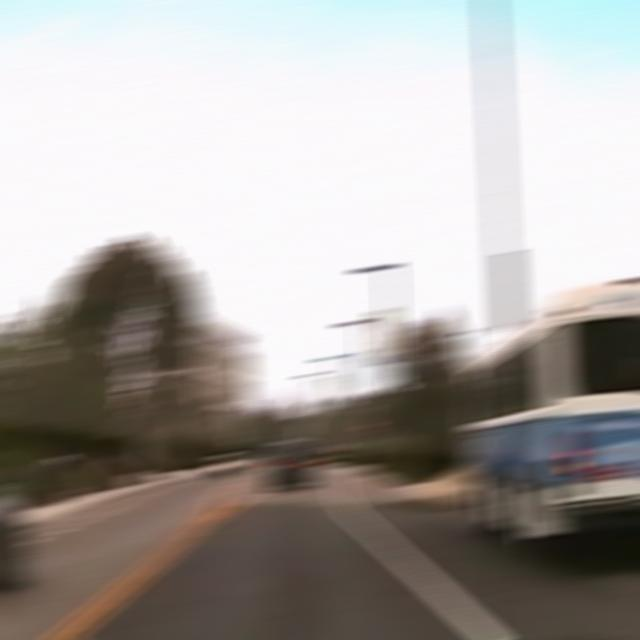stop: (357, 419, 378, 432)
